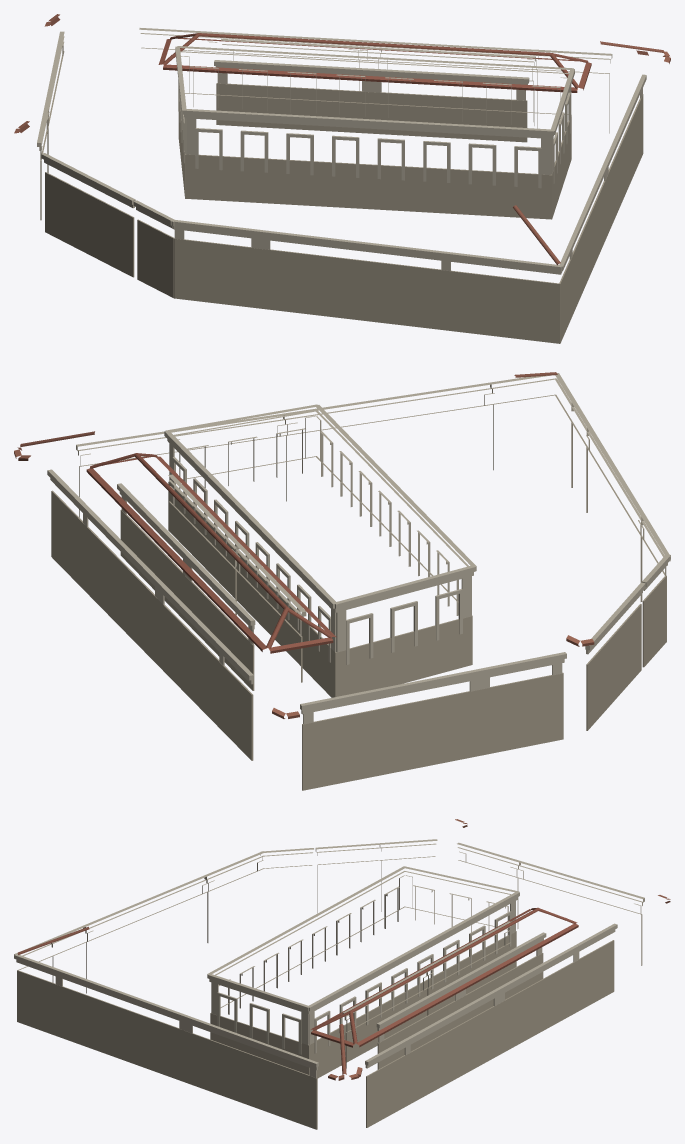
3 views of the same model, one above another, from view 1: azimuth 30°, elevation 25°; view 2: azimuth 150°, elevation 25°; view 3: azimuth 270°, elevation 25° (orthographic). The views are drawn at different scales.
Visible parts, largest first — view 1: detail; view 2: detail; view 3: detail.
Part boxes in pixels (box(x1,y1,x2,y2)): detail: box(14, 14, 670, 343); detail: box(14, 372, 670, 790); detail: box(14, 819, 670, 1129).
Bounding box in the file's own units: 41.63 × 7.37 × 46.86.
